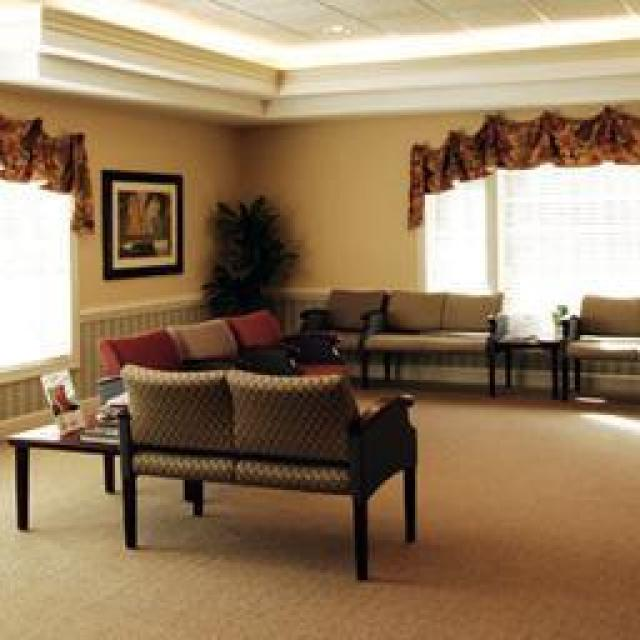curtains: (405, 102, 637, 230)
plants: (198, 192, 300, 318)
rugs: (0, 378, 638, 638)
sofa: (560, 292, 638, 408)
windows: (0, 155, 78, 390)
